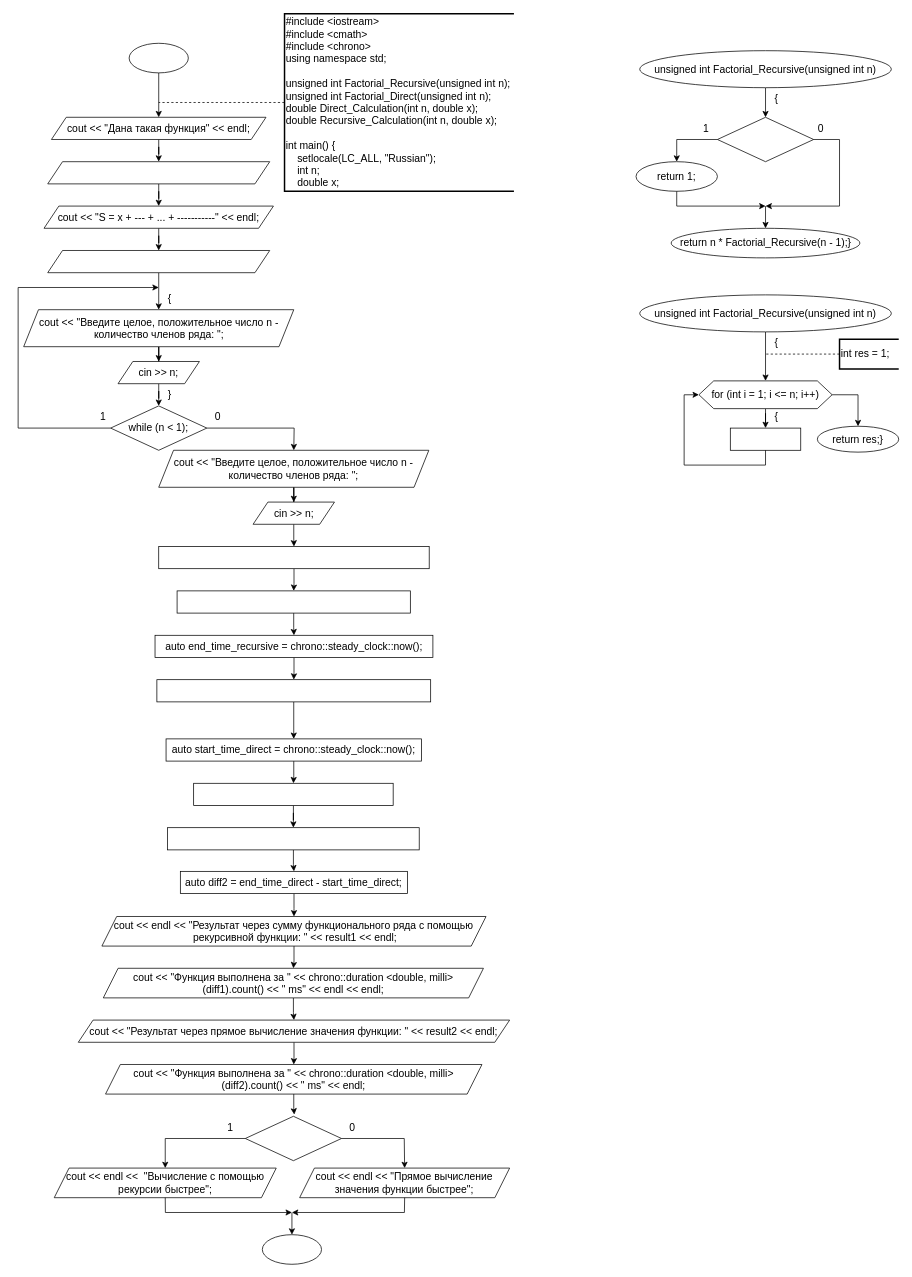
This 912x1277 diagram has some shape labels left out. The shapes that lost their labels are listed below. From the top down, each one's centre as x and y in pixels, then its label:
[158,58]: начало
[765,139]: if (n == 0)
[158,172]: cout << " x^3 x^(2*n - 1)" << endl;
[158,261]: cout << " 3! (2*n - 1)" << endl;
[765,438]: res = res * i;
[293,557]: auto start_time_recursive = chrono::steady_clock::now();
[293,601]: double result1 = Recursive_Calculation(n - 1, x);
[293,690]: auto diff1 = end_time_recursive - start_time_recursive;
[293,794]: double result2 = Direct_Calculation(n, x);
[293,838]: auto end_time_direct = chrono::steady_clock::now();
[293,1138]: if (diff1 < diff2)
[292,1249]: return 0;}
